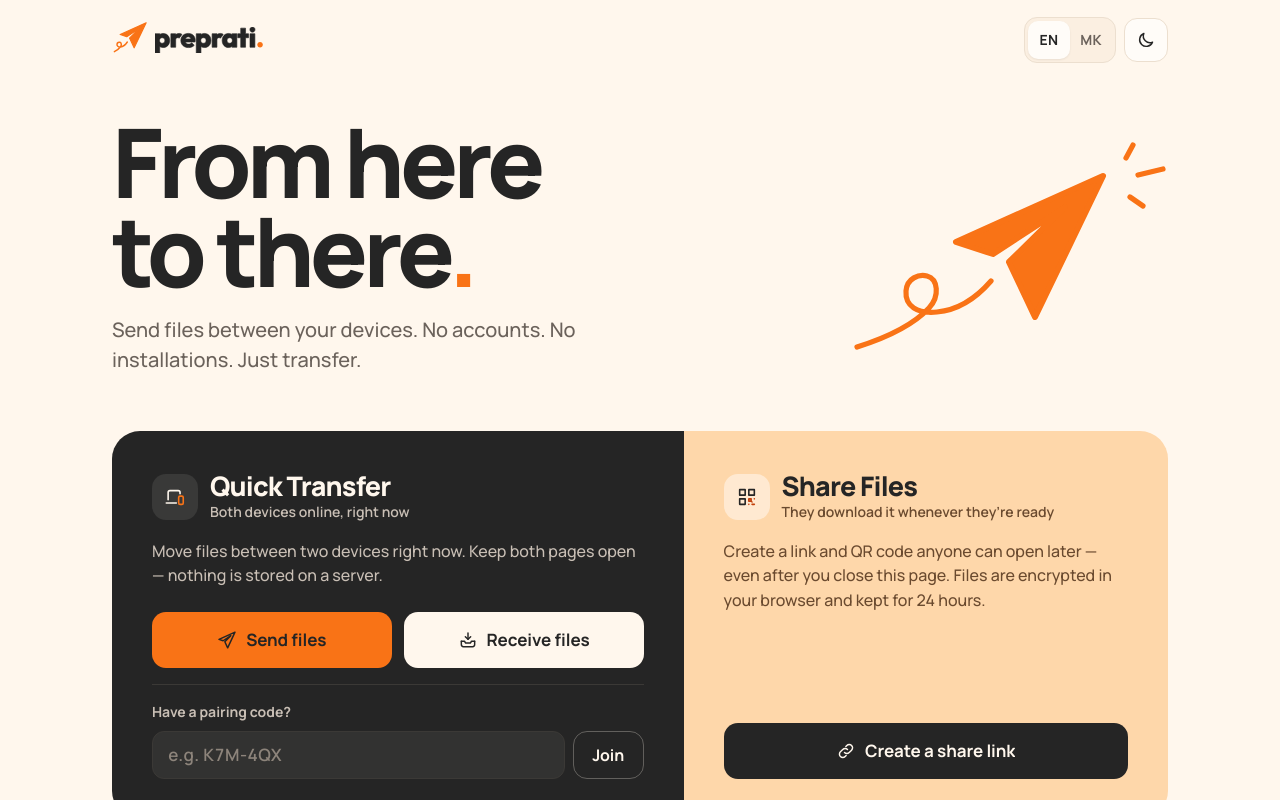
Test: Home › switches the whole interface to Macedonian, keeping the Latin wordmark
Step 1. Click the button with aria-label "Македонски" → (1091, 40), box [1070,21,1112,59]
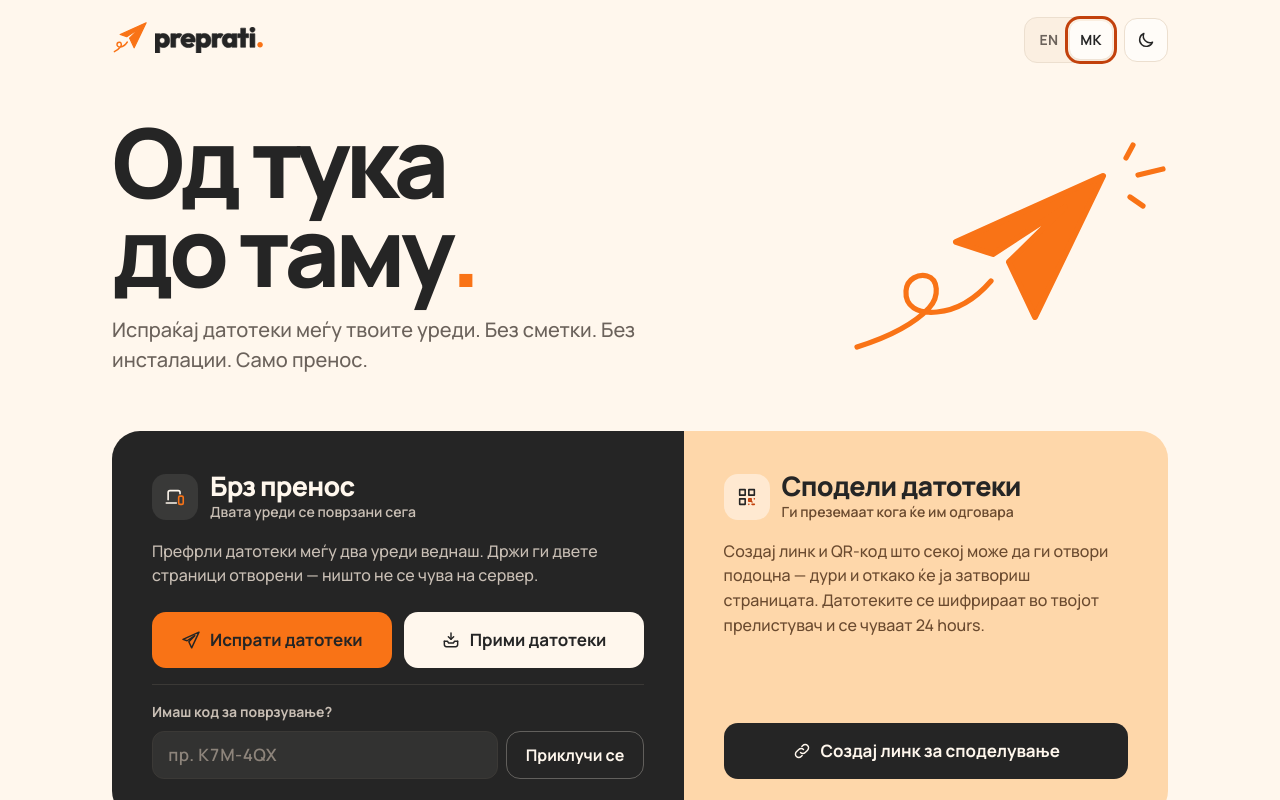
Expected: the link named "preprati. — Почетна" is shown, [112,16,263,64]
Result: the heading "Од тука до таму." is shown at [112,96,476,316]
Result: the link "Испрати датотеки" is shown at [152,612,392,668]
